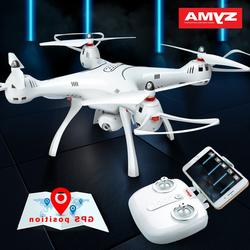drone: (1, 29, 250, 178)
